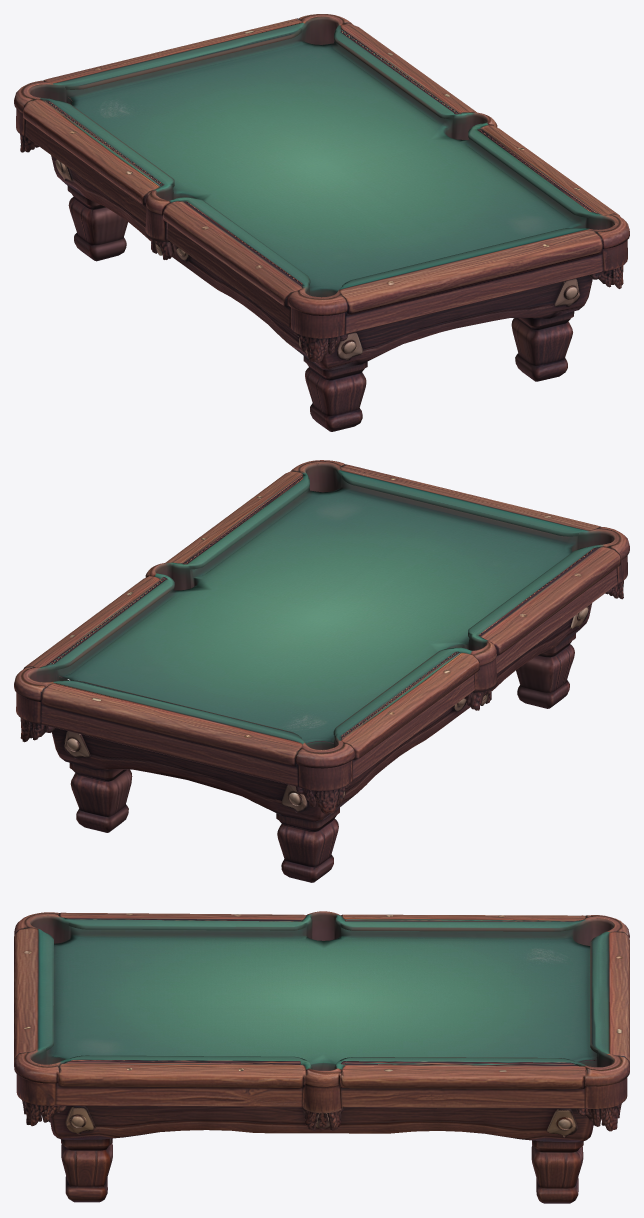
The model's file is PoolTable.fbx.
3 views of the same model, one above another, from view 1: azimuth 30°, elevation 25°; view 2: azimuth 150°, elevation 25°; view 3: azimuth 270°, elevation 25° (orthographic).
Visible parts, largest first — view 1: tripo_4358f589_0ec1_4b2a_82cf_f17b80f564f5; view 2: tripo_4358f589_0ec1_4b2a_82cf_f17b80f564f5; view 3: tripo_4358f589_0ec1_4b2a_82cf_f17b80f564f5.
Part boxes in pixels (x1,y1,x2,y2): tripo_4358f589_0ec1_4b2a_82cf_f17b80f564f5: [14, 14, 629, 431]; tripo_4358f589_0ec1_4b2a_82cf_f17b80f564f5: [14, 460, 629, 882]; tripo_4358f589_0ec1_4b2a_82cf_f17b80f564f5: [14, 911, 629, 1203].
Bounding box in the file's own units: 259 × 113 × 400.
